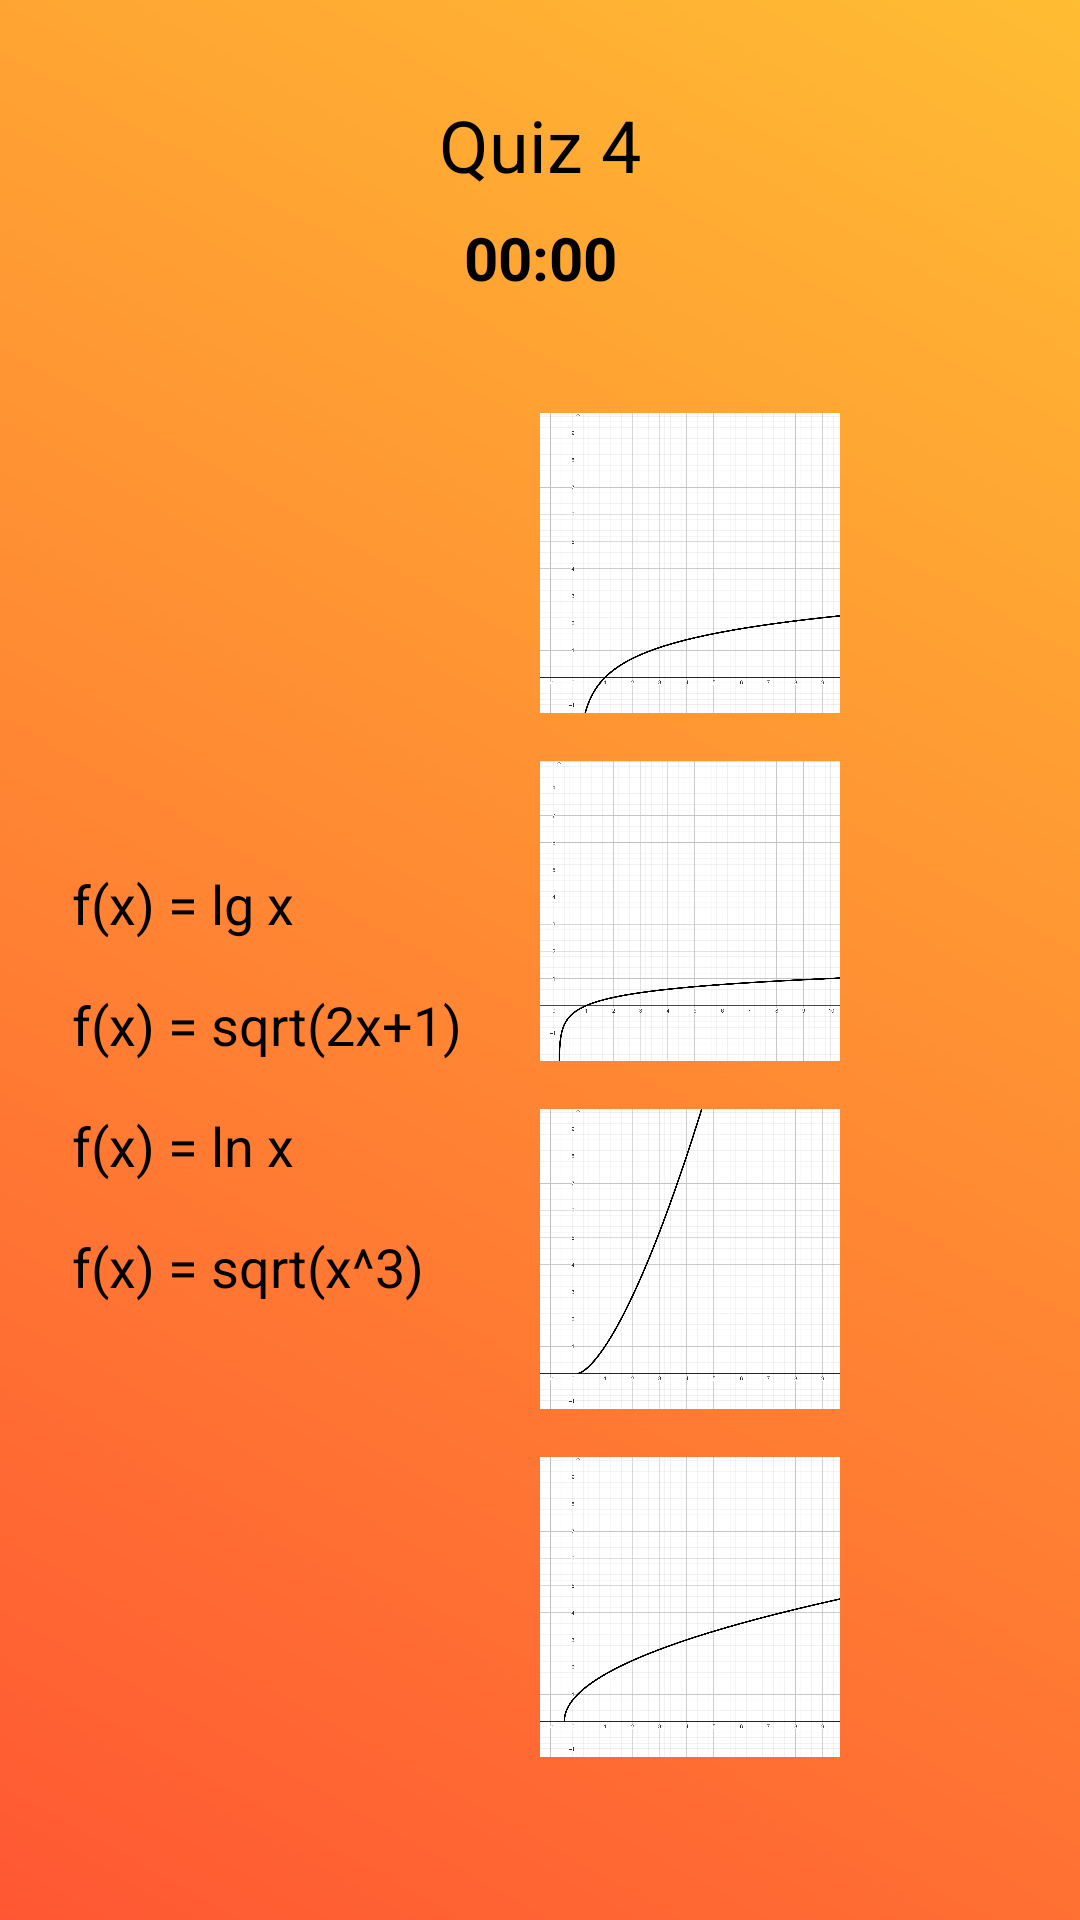

Icons on this 1080 x 1920 Android screen, each with its box as bbox=[x1, y1, x2, y2]:
graph: bbox=[540, 413, 840, 713], bbox=[540, 761, 840, 1061], bbox=[540, 1109, 840, 1409], bbox=[540, 1457, 840, 1757]
